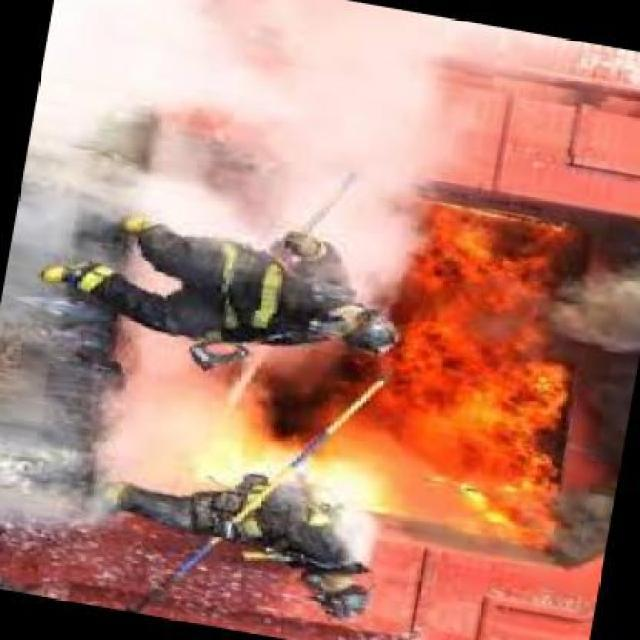Fire: (391, 213, 564, 542), (241, 350, 395, 453)
Smoke: (49, 3, 420, 223), (0, 334, 244, 506), (277, 462, 379, 552)
